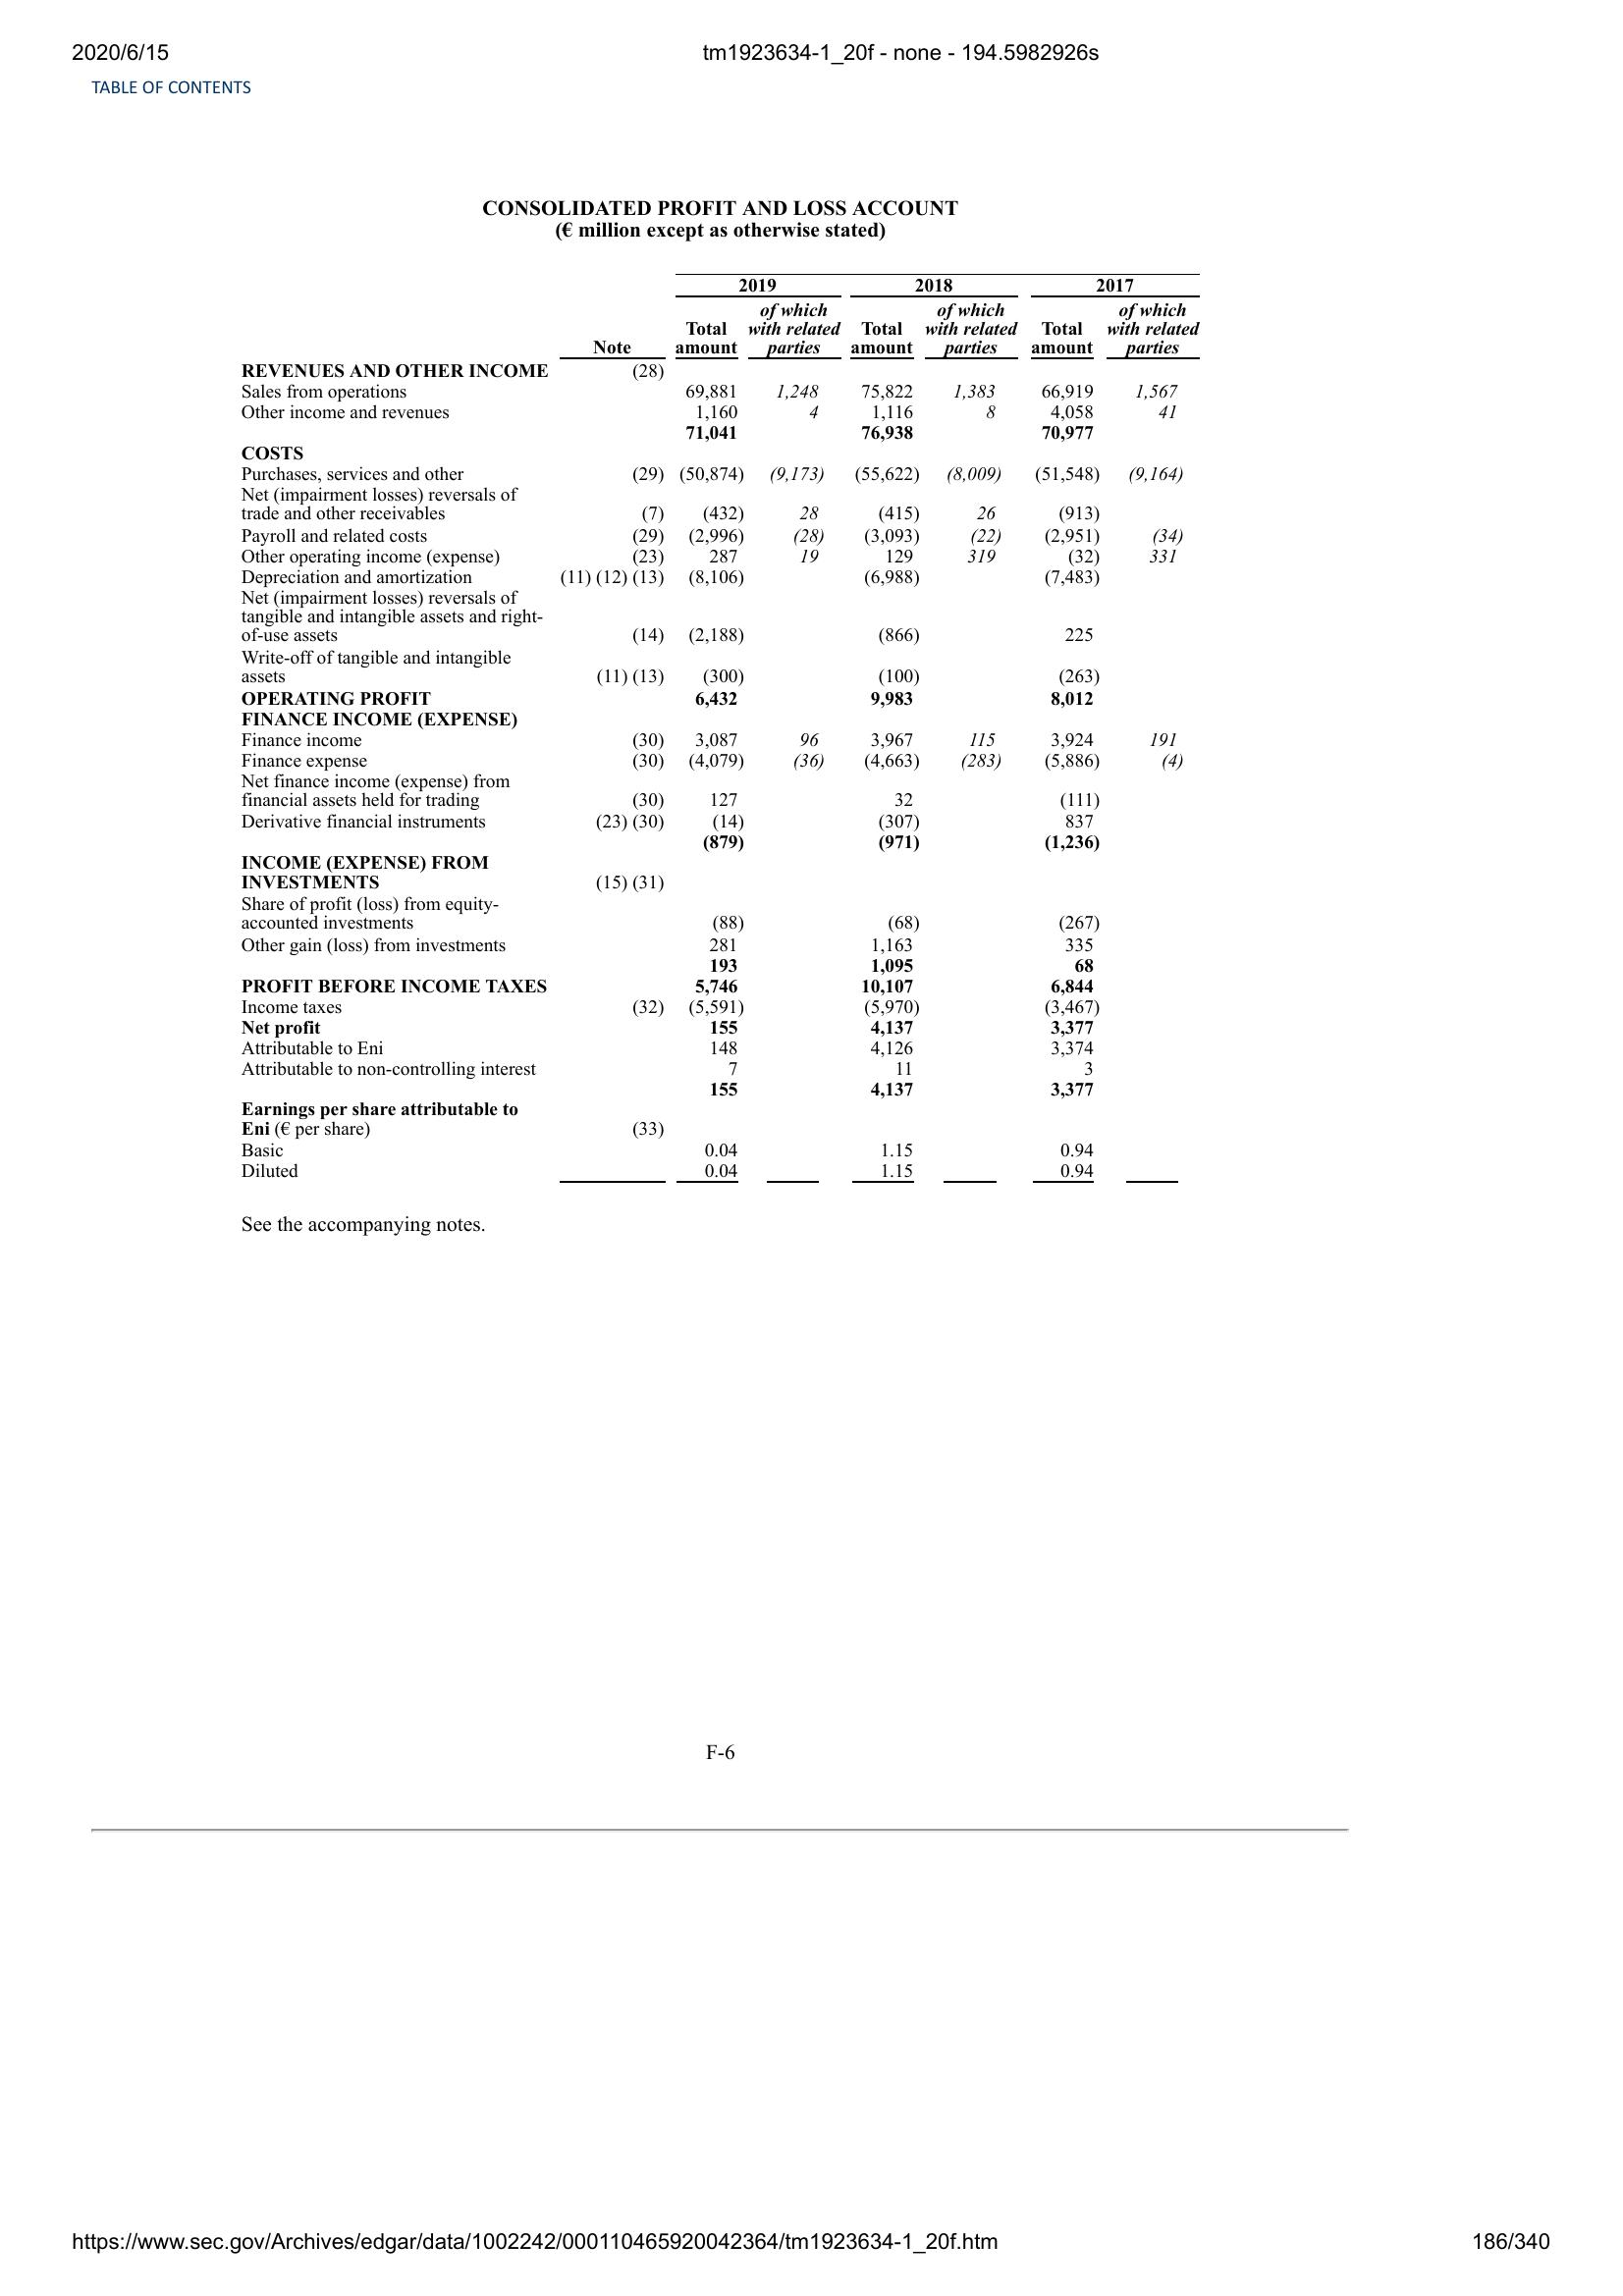table: (235, 269, 1212, 1195)
